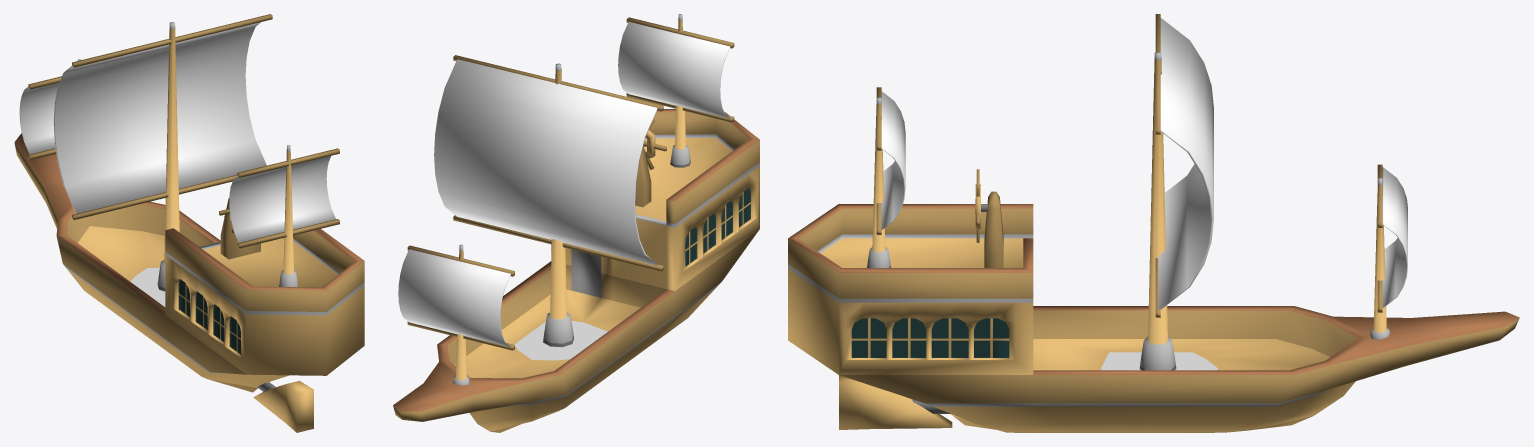
The model's file is Ship.fbx.
The picture shows the model from 3 angles, left to right: view 1: azimuth 30°, elevation 25°; view 2: azimuth 150°, elevation 25°; view 3: azimuth 270°, elevation 25°; orthographic projection. The views are drawn at different scales.
Parts seen in each view (by area): view 1: Obj_Ship; view 2: Obj_Ship; view 3: Obj_Ship.
Boxes of the visible parts, x1,y1,x2,y2 form: Obj_Ship: (14,14,364,432); Obj_Ship: (393,14,759,432); Obj_Ship: (788,14,1519,432).
Size of the model in its own units: 7162 by 2690 by 4061.
